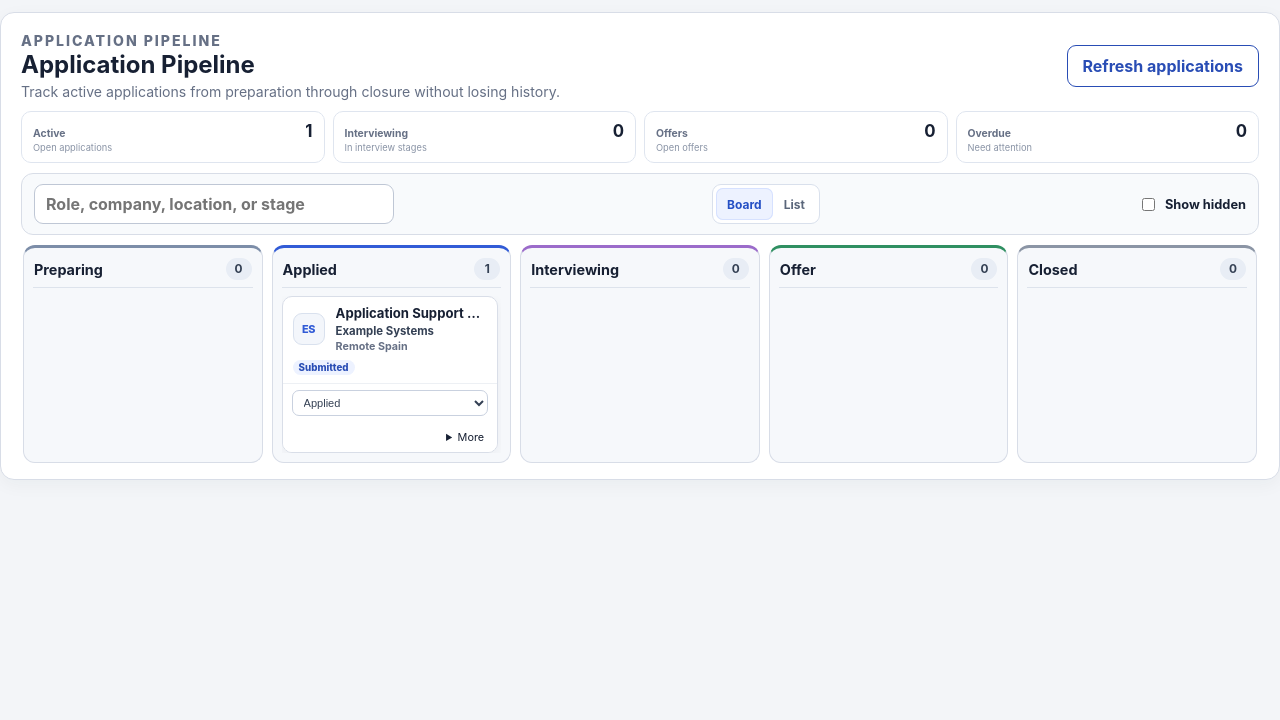
Test case: Application workspace timeline › shows immutable application events in newest-first order
The width and height of the screenshot is (1280, 720).
Click the button with aria-label "Open Application Support Engineer": x=390, y=340 [283,297,497,383]
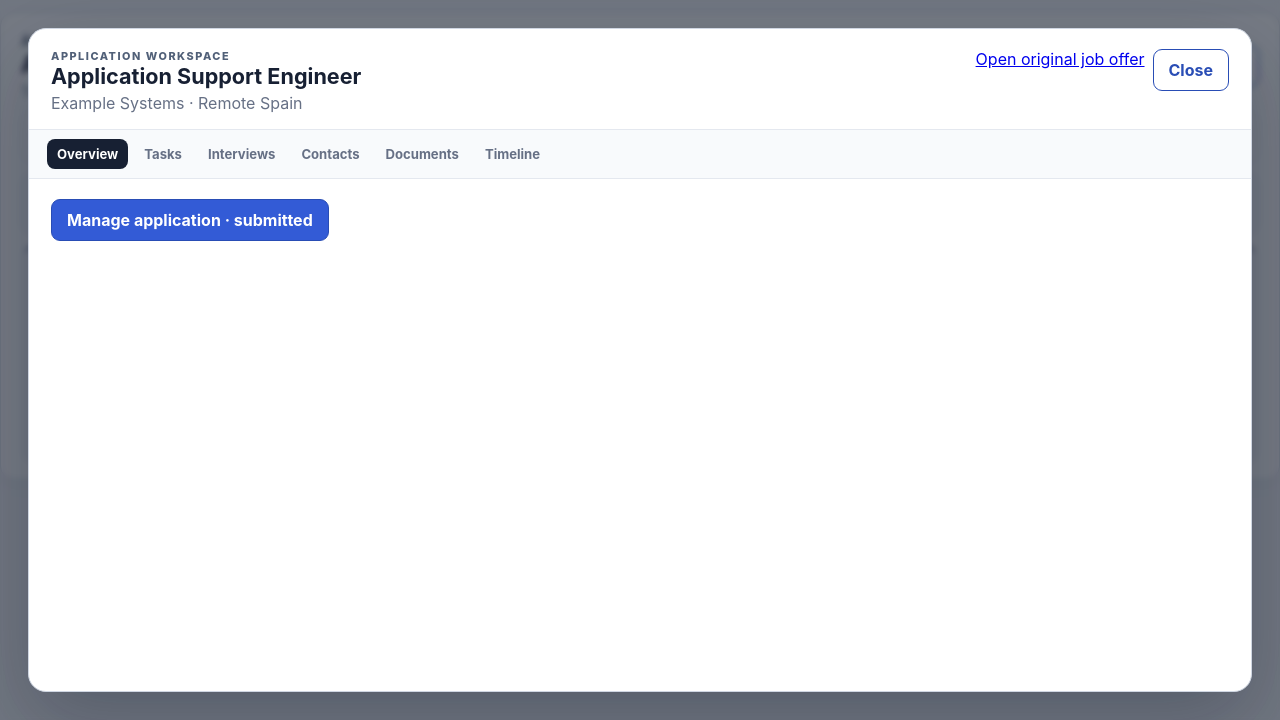
Click the tab "Timeline": x=512, y=154 [475,139,550,169]
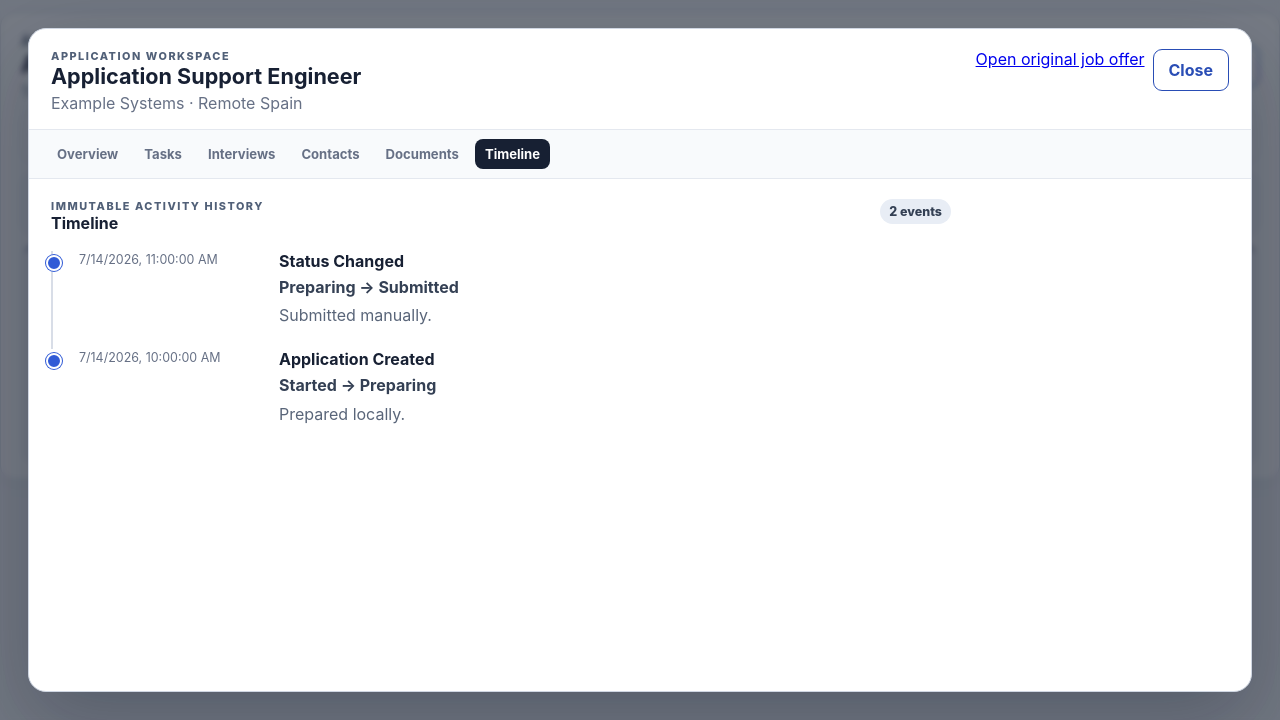
Now the heading "Timeline" is shown, box [51,213,118,233]
Now the text "2 events" is shown, box [880,199,951,224]
Now the text "Submitted manually." is shown, box [279,305,432,325]
